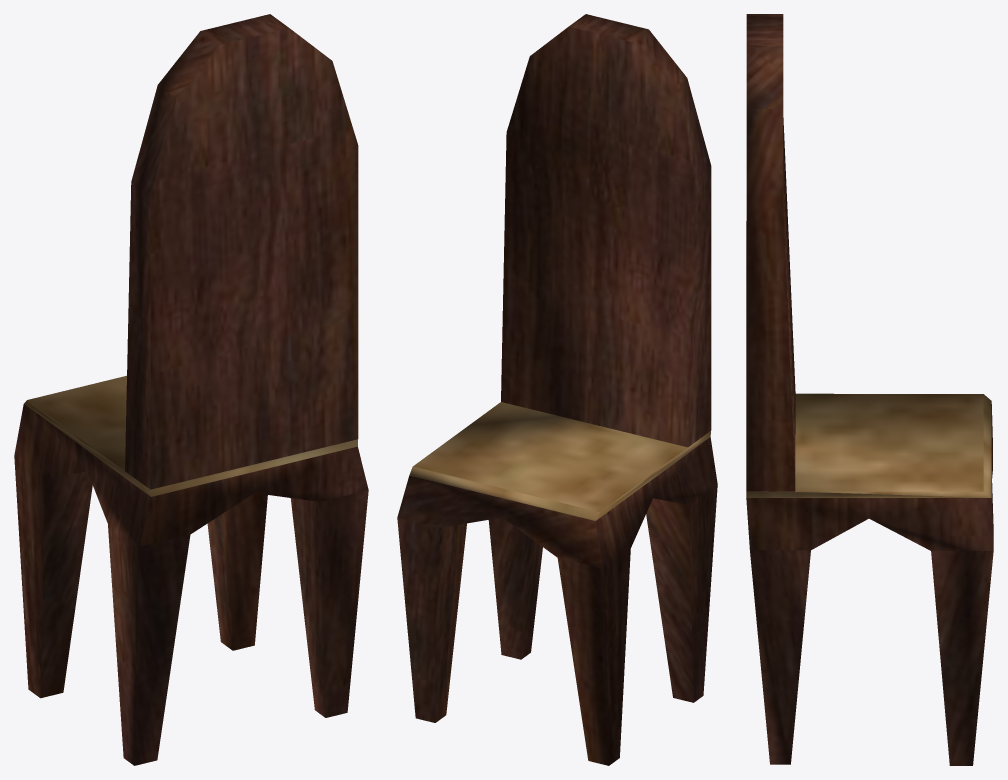
Rendered from objects_chair_1.glb.
3 views of the same model, side by side, from view 1: azimuth 30°, elevation 25°; view 2: azimuth 150°, elevation 25°; view 3: azimuth 270°, elevation 25° (orthographic). The views are drawn at different scales.
Visible parts, largest first — view 1: chair_1; view 2: chair_1; view 3: chair_1.
Part boxes in pixels (x1=…): chair_1: x1=14, y1=14, x2=368, y2=765; chair_1: x1=397, y1=14, x2=717, y2=765; chair_1: x1=746, y1=14, x2=993, y2=765.
Bounding box in the file's own units: 1.61 × 4.78 × 1.56.
2 materials, 2 textured.
